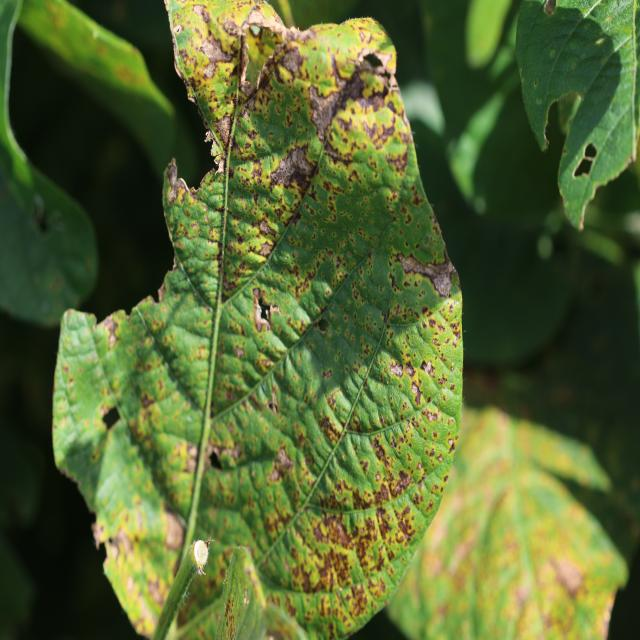Bacterial_Blight: (429, 489, 499, 596), (268, 128, 323, 199), (398, 244, 459, 295), (337, 64, 388, 118), (359, 248, 398, 316), (168, 12, 195, 81), (549, 555, 585, 597), (165, 156, 192, 206), (199, 34, 232, 74), (241, 3, 280, 33), (315, 551, 342, 591), (107, 526, 135, 559), (163, 509, 185, 551), (573, 142, 598, 178), (385, 139, 409, 174), (192, 536, 213, 574), (221, 266, 248, 295), (367, 48, 396, 74), (32, 196, 51, 234), (329, 518, 352, 549), (252, 298, 272, 333), (390, 469, 414, 498), (222, 592, 237, 638), (375, 507, 395, 541), (396, 508, 416, 542), (207, 441, 233, 467), (280, 46, 303, 75), (215, 113, 233, 148), (319, 414, 340, 443), (577, 0, 606, 20), (273, 447, 294, 474), (101, 314, 119, 344), (101, 405, 121, 431), (184, 447, 201, 475), (238, 80, 258, 103), (258, 219, 278, 237), (92, 521, 105, 548), (222, 18, 241, 36), (269, 384, 280, 415), (139, 391, 155, 409), (258, 241, 275, 257), (388, 361, 404, 378), (420, 359, 435, 377), (422, 409, 439, 422), (158, 279, 168, 301), (542, 124, 551, 148), (317, 317, 329, 335), (543, 0, 557, 15), (578, 210, 587, 232), (413, 388, 423, 406), (181, 585, 191, 602), (234, 345, 245, 359), (204, 128, 213, 143), (322, 368, 332, 380), (242, 588, 249, 605), (626, 156, 635, 168), (174, 24, 182, 35), (375, 471, 381, 482), (448, 438, 454, 447), (550, 49, 556, 58), (438, 454, 444, 462), (449, 383, 455, 391), (432, 431, 438, 439), (534, 79, 538, 86)
Soybean: (53, 0, 464, 640)
